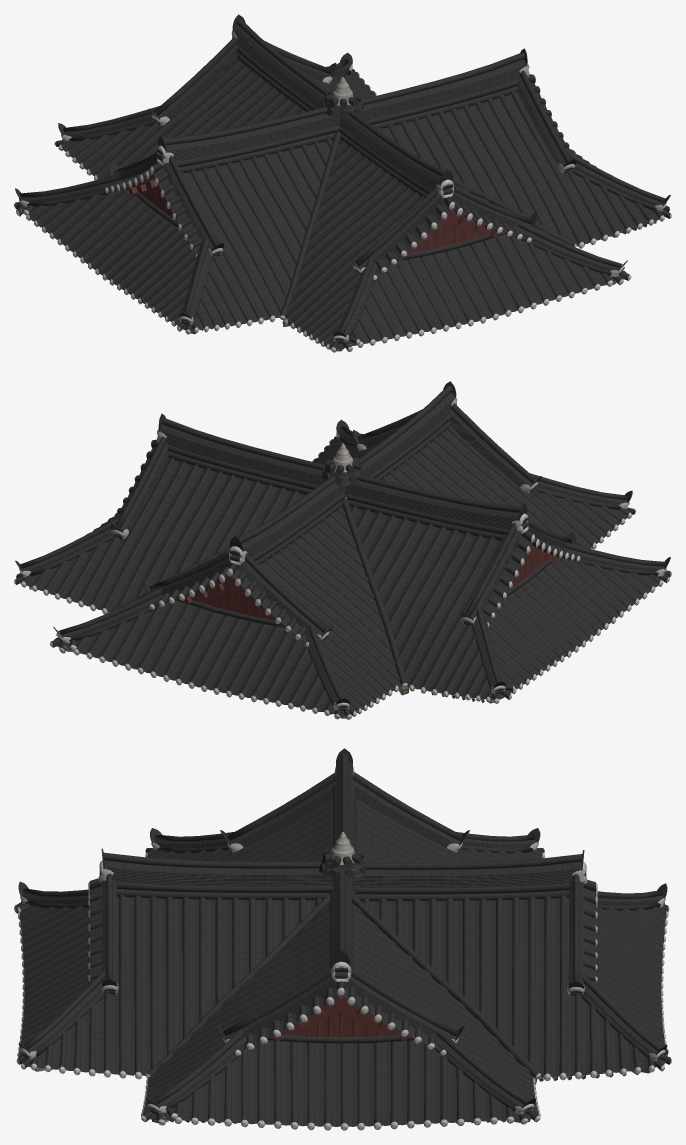
Rendered from SM_Song_Jong_Roof.fbx.
3 views of the same model, one above another, from view 1: azimuth 30°, elevation 25°; view 2: azimuth 150°, elevation 25°; view 3: azimuth 270°, elevation 25° (orthographic). The views are drawn at different scales.
Parts seen in each view (by area): view 1: SM_Song_Jong_Roof; view 2: SM_Song_Jong_Roof; view 3: SM_Song_Jong_Roof.
Boxes of the visible parts, x1,y1,x2,y2 form: SM_Song_Jong_Roof: [14, 14, 671, 352]; SM_Song_Jong_Roof: [14, 381, 671, 719]; SM_Song_Jong_Roof: [14, 748, 671, 1130].
Bounding box in the file's own units: 1264 × 381 × 1276.
